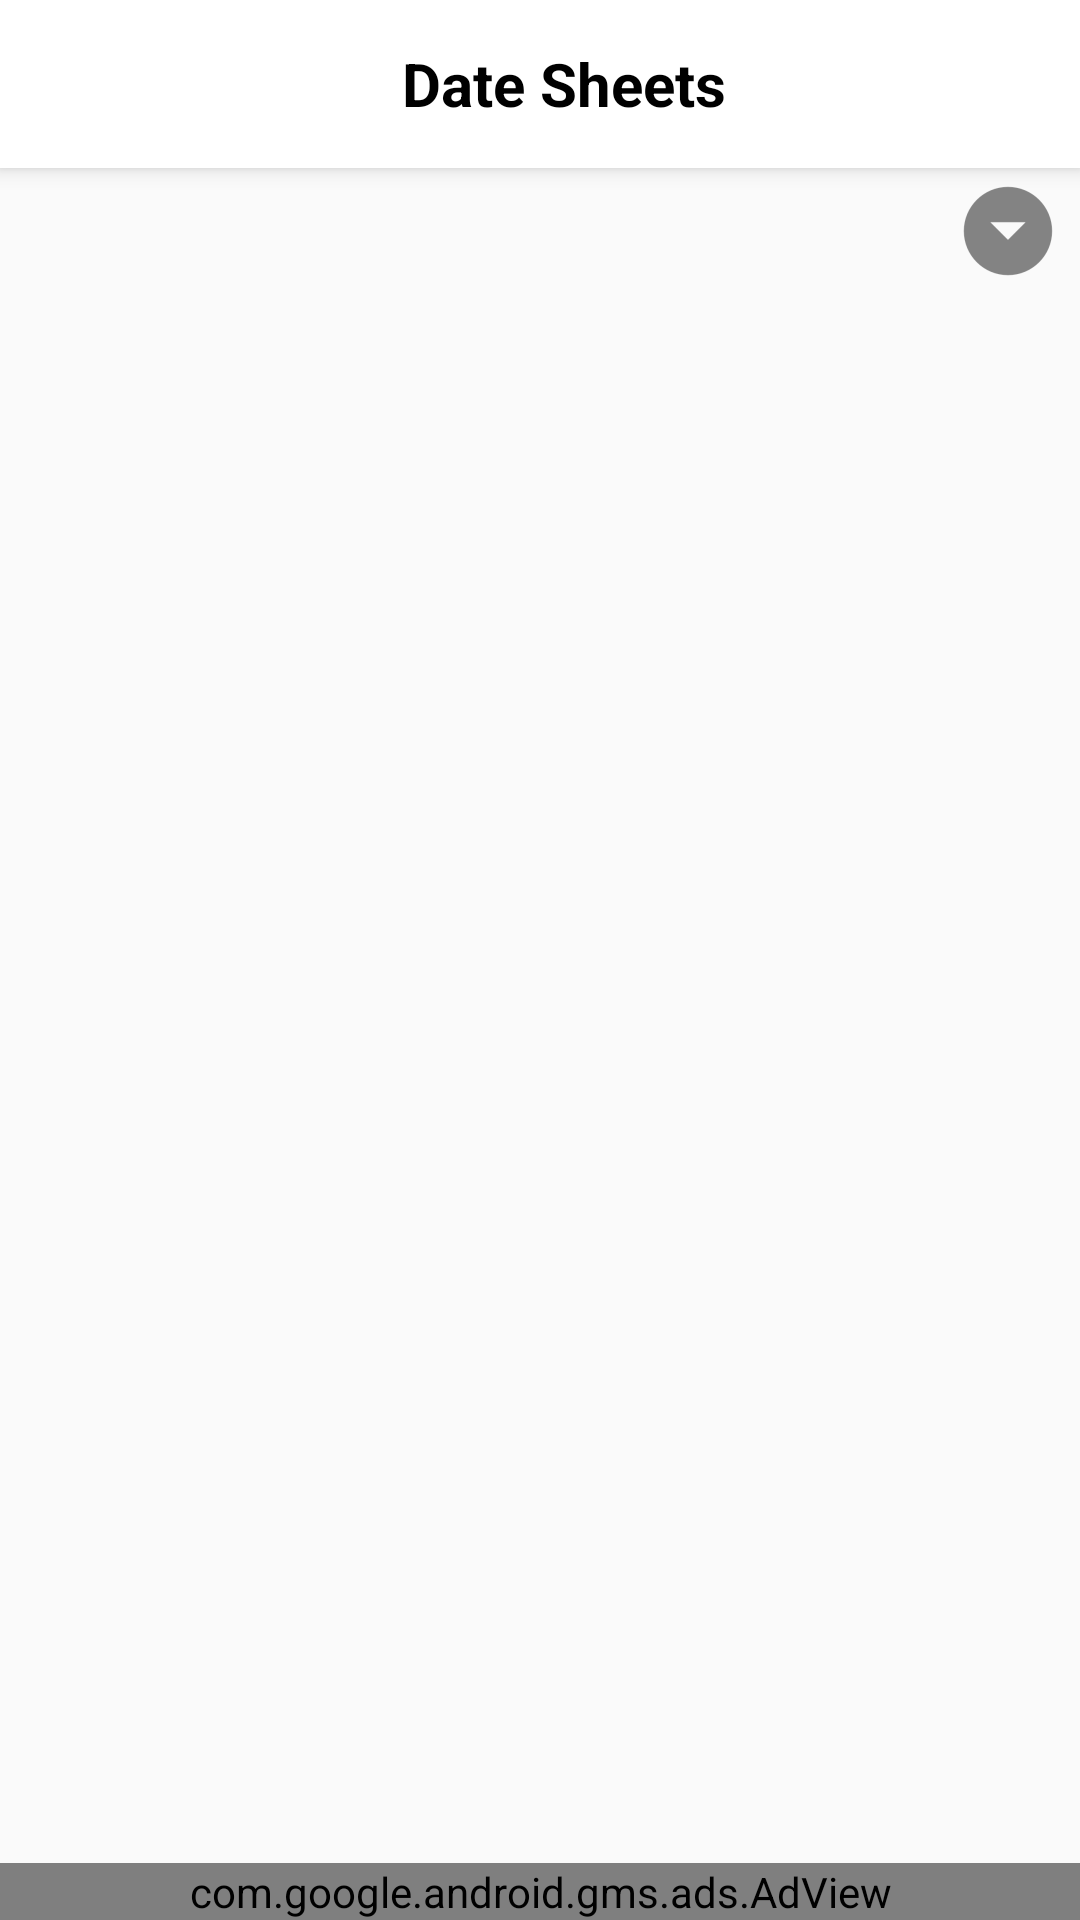

Point at icon controls on the screen. Image size 1080*1920, points as (x=x, y=y).
drop: (x=1007, y=231)
